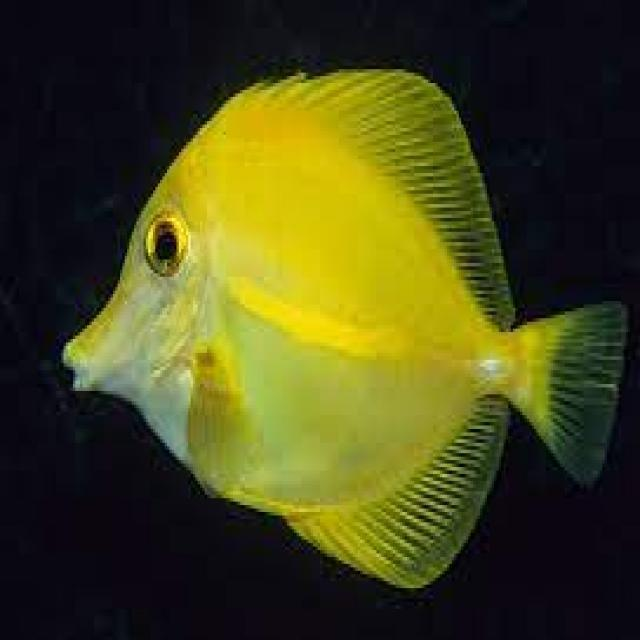YellowTang: (57, 54, 625, 593)
